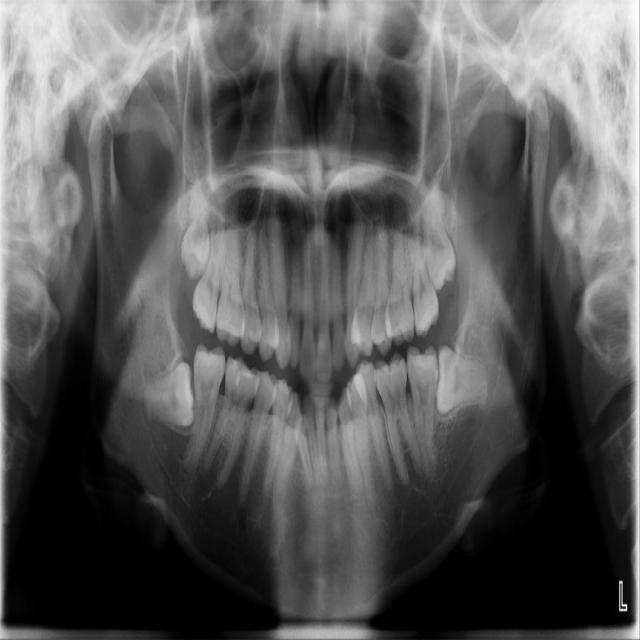3M ESPE Implant: (178, 146, 219, 278)
52: (212, 348, 271, 406)
BioHorizons Implant: (399, 201, 443, 338)
BioLife Implant: (411, 165, 461, 293)
Biomet 3i Implant: (434, 346, 490, 418)
Blue Sky Bio Implant: (407, 345, 440, 475)
Caries: (189, 193, 231, 337)
Implant: (172, 340, 229, 476)
Keystone Dental Implant: (141, 361, 196, 430)
